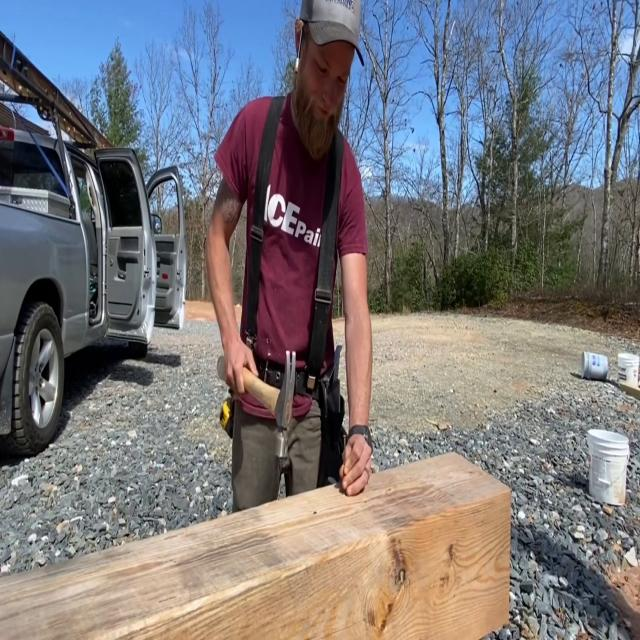hammer: (242, 350, 296, 458)
